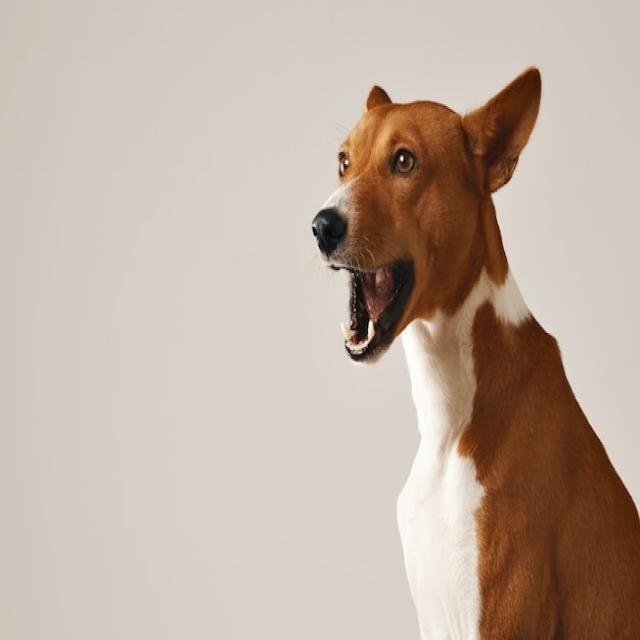Dog: (310, 64, 640, 640)
